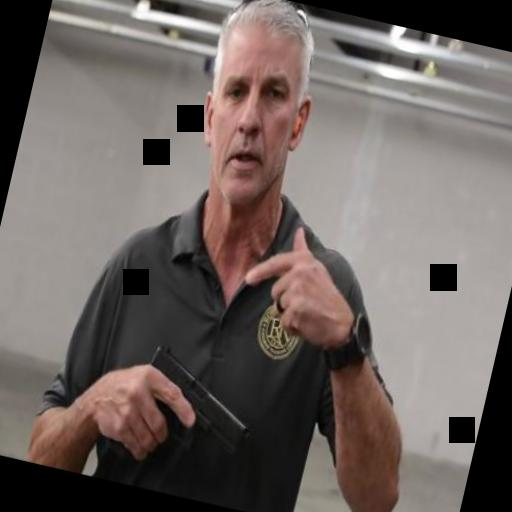Handgun: (111, 339, 262, 474)
